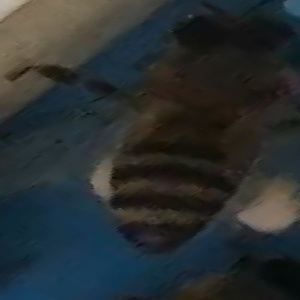bee: (100, 2, 297, 253)
